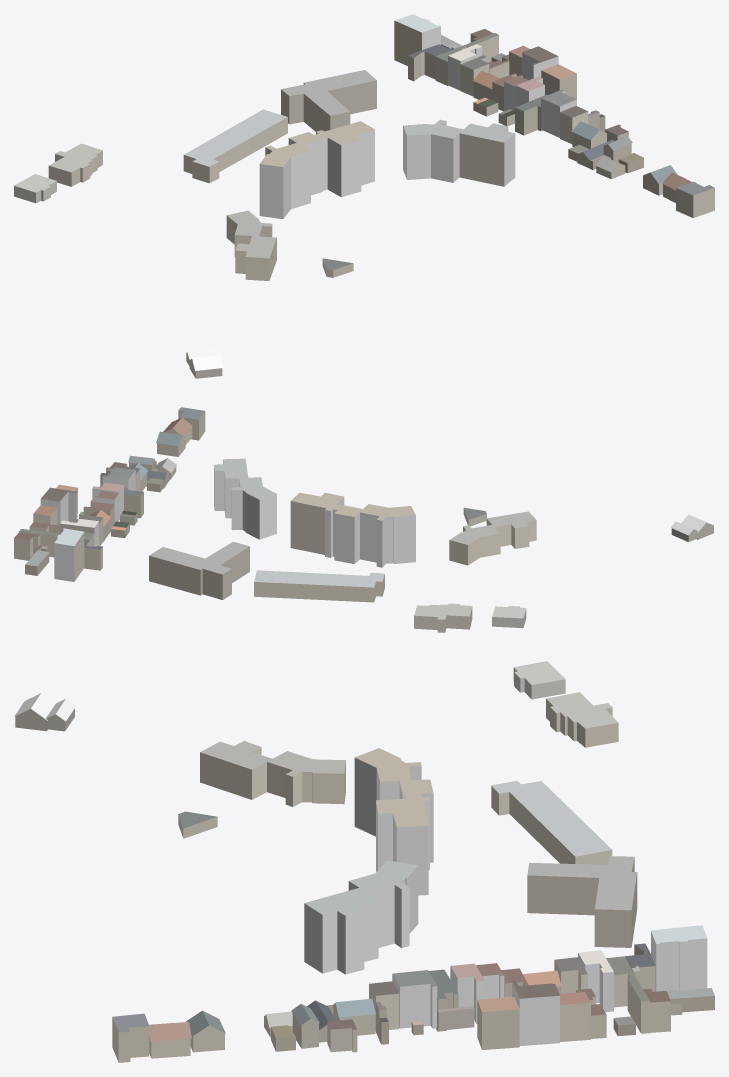
The picture shows the model from 3 angles, top to bottom: view 1: azimuth 30°, elevation 25°; view 2: azimuth 150°, elevation 25°; view 3: azimuth 270°, elevation 25°; orthographic projection. The views are drawn at different scales.
Parts seen in each view (by area): view 1: tuile; view 2: tuile; view 3: tuile.
Part boxes in pixels (x1=…): tuile: x1=14, y1=14, x2=714, y2=378; tuile: x1=14, y1=407, x2=713, y2=632; tuile: x1=14, y1=661, x2=714, y2=1062.
Size of the model in its own units: 261 by 31.23 by 215.
